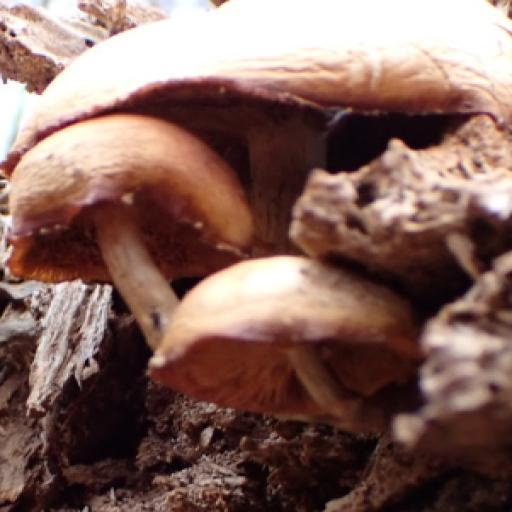mushroom: (5, 110, 428, 452)
